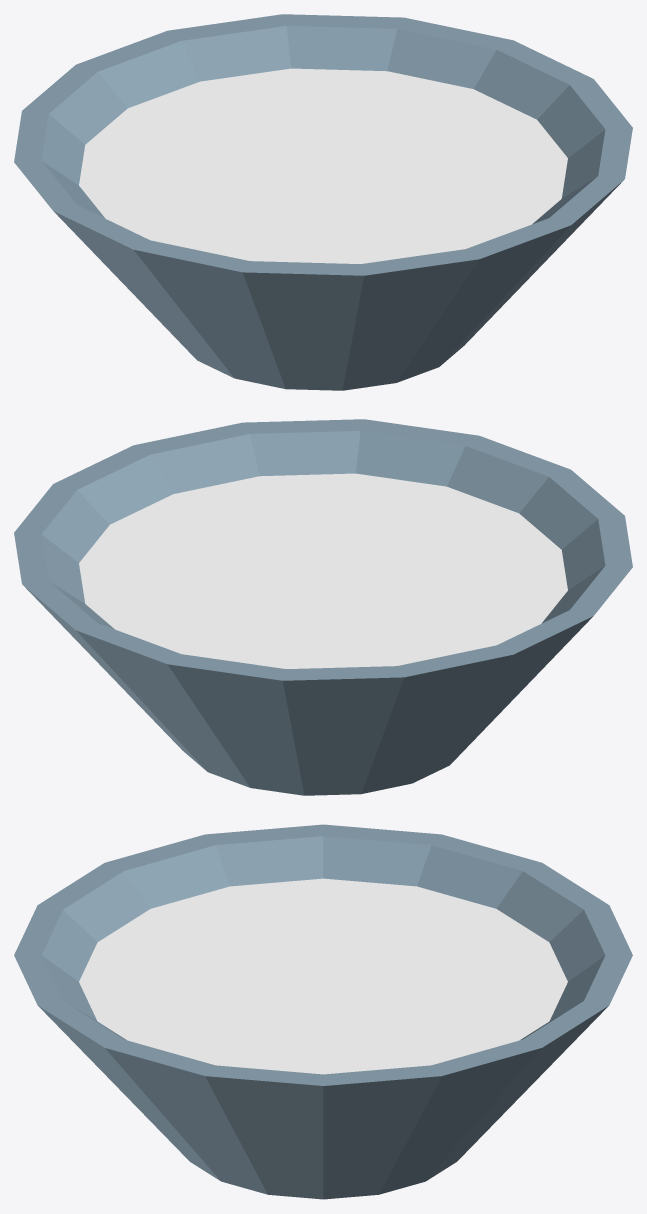
File: Flour.fbx
3 renders of one model, top to bottom at view 1: azimuth 30°, elevation 25°; view 2: azimuth 150°, elevation 25°; view 3: azimuth 270°, elevation 25°, orthographic.
Parts seen in each view (by area): view 1: Flour; view 2: Flour; view 3: Flour.
Part boxes in pixels (box(x1,y1,x2,y2)): Flour: box(14, 14, 632, 390); Flour: box(14, 419, 632, 795); Flour: box(14, 824, 632, 1199).
Size of the model in its own units: 35.2 by 35.2 by 11.49.
